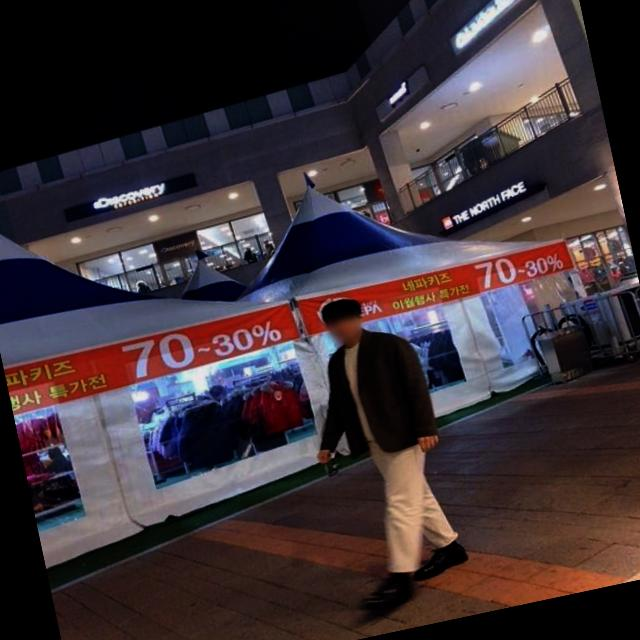blazer: (300, 321, 440, 468)
cottonpants: (356, 420, 466, 576)
